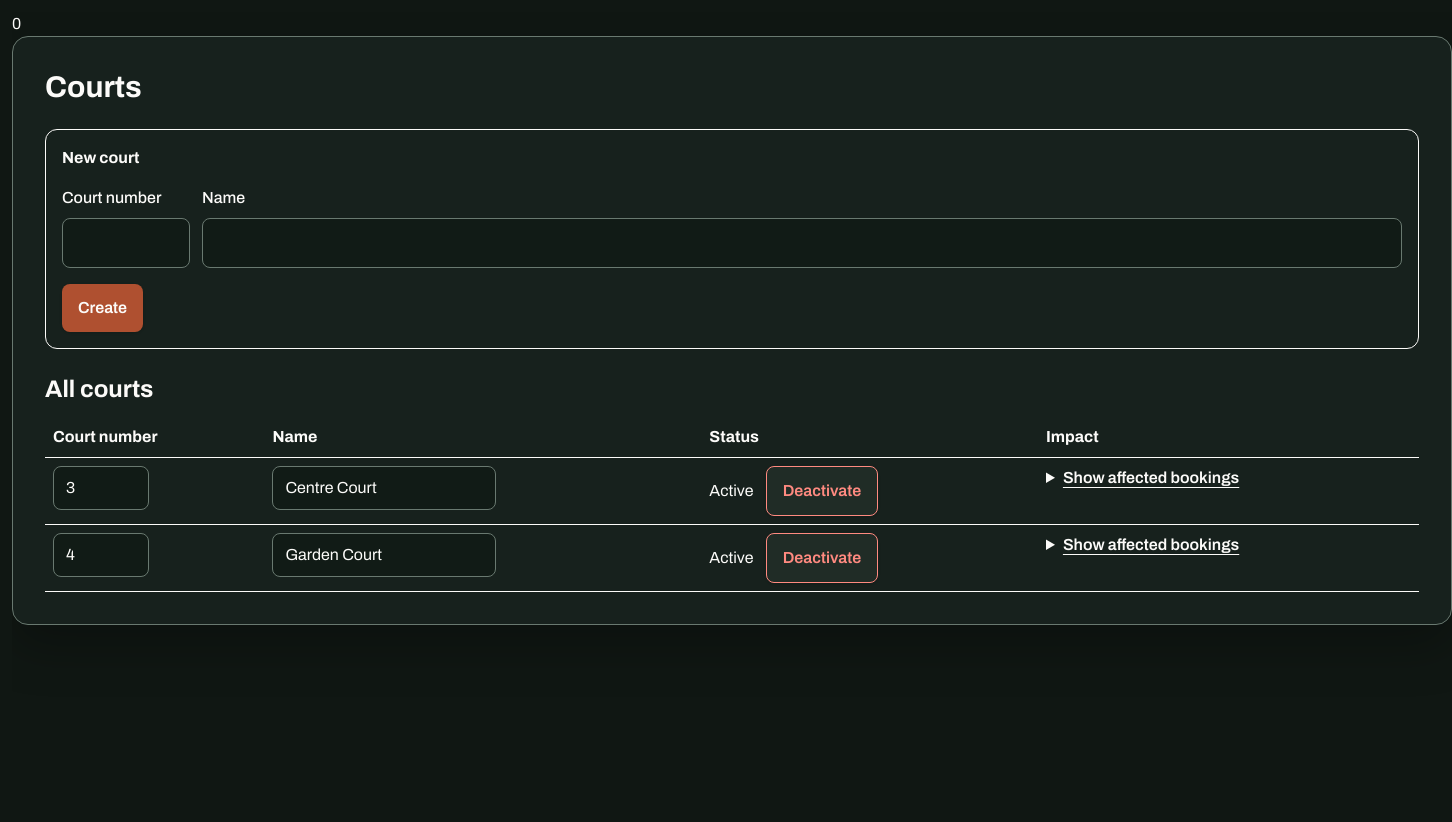
AdminCourtsView › given two edited courts, when the page is saved once, then each is written with the value it keeps
This screenshot has width=1452, height=822.
Check: the row with test id "court-row-court-2" is shown, box [45,524,1419,592]
Type "!" into the field with test id "edit-court-name-court-1" at (384, 488), box [272,466,496,510]
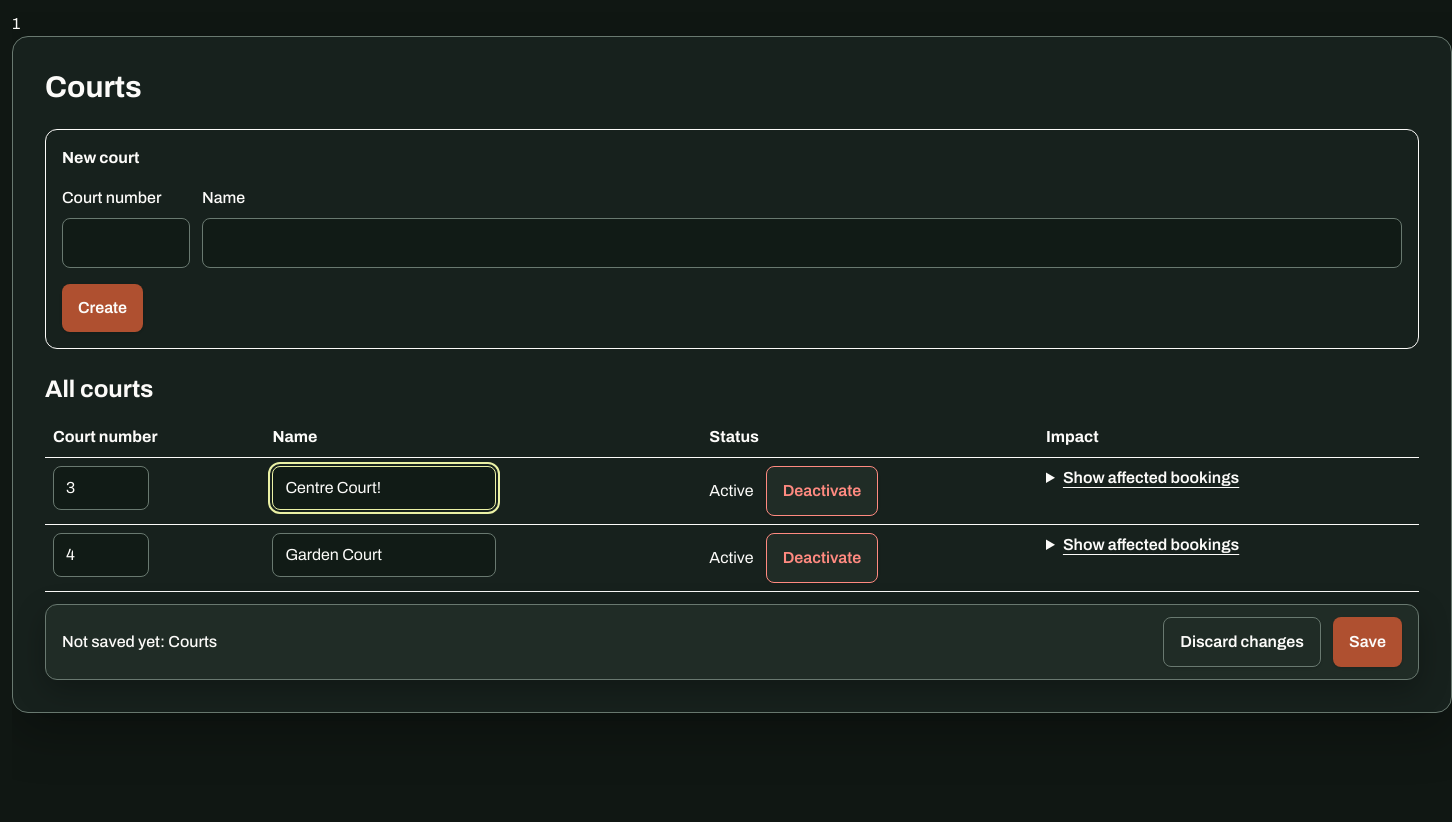
Replace the text in the number field with test id "edit-court-number-court-2" with "9" at (101, 555), box [53,533,149,577]
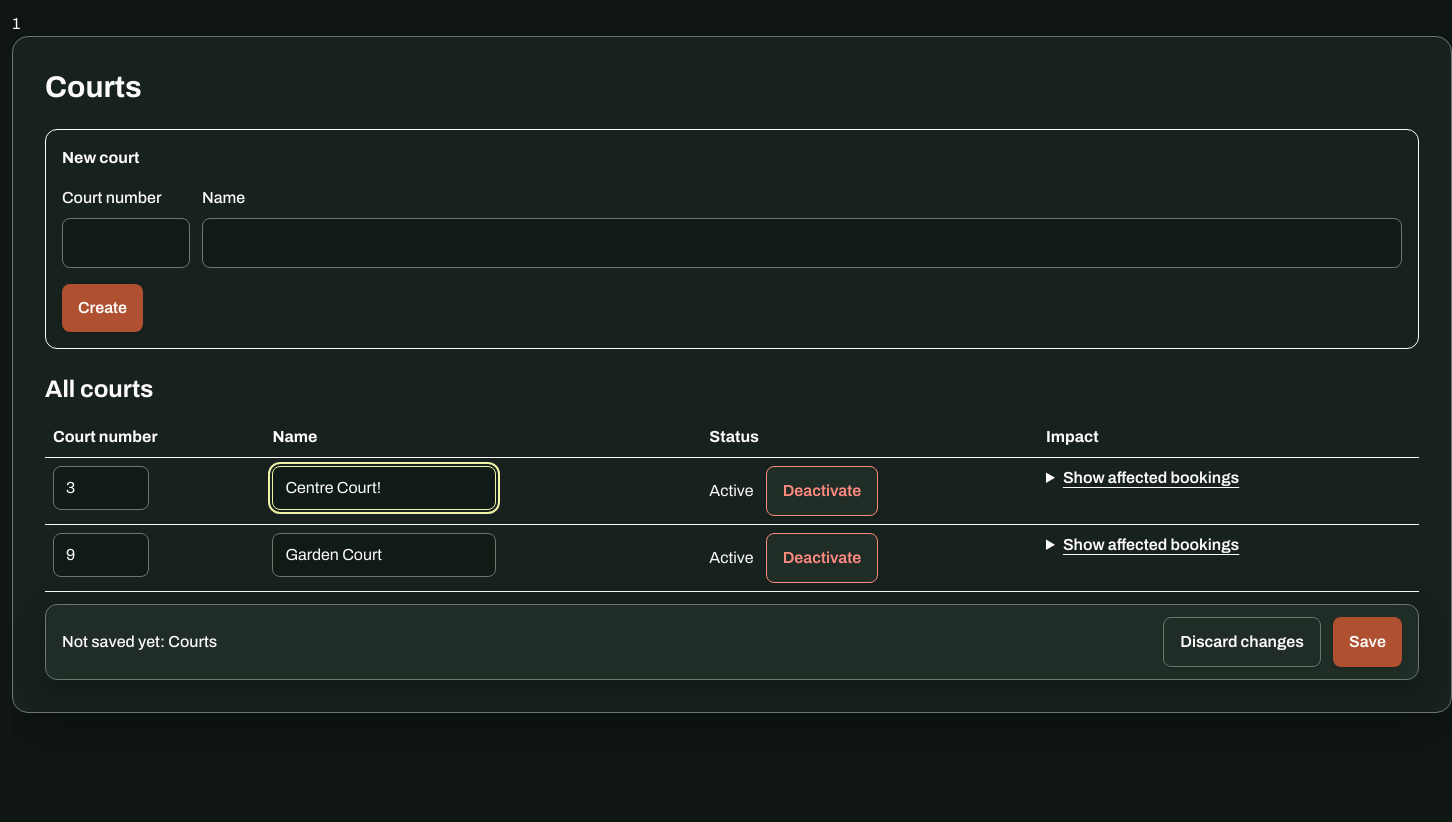
Check: the text with test id "unsaved-count" reads "1", box [12,15,20,32]
Click the button with test id "save-courts" at (1368, 642), box [1333,617,1402,667]
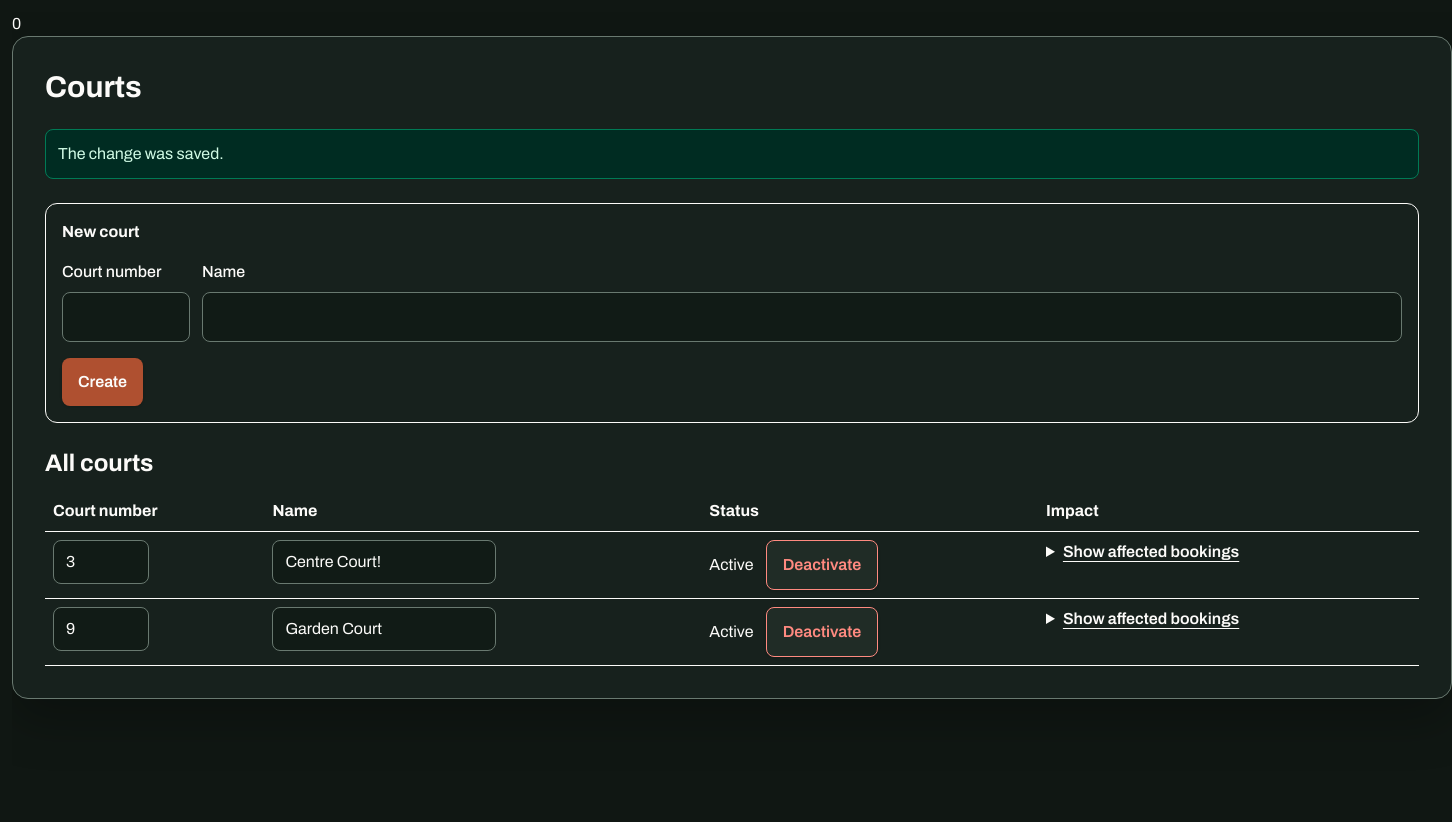
Check: the message "The change was saved." is shown, box [45,129,1419,179]
Check: the text with test id "unsaved-count" reads "0", box [12,15,21,32]
